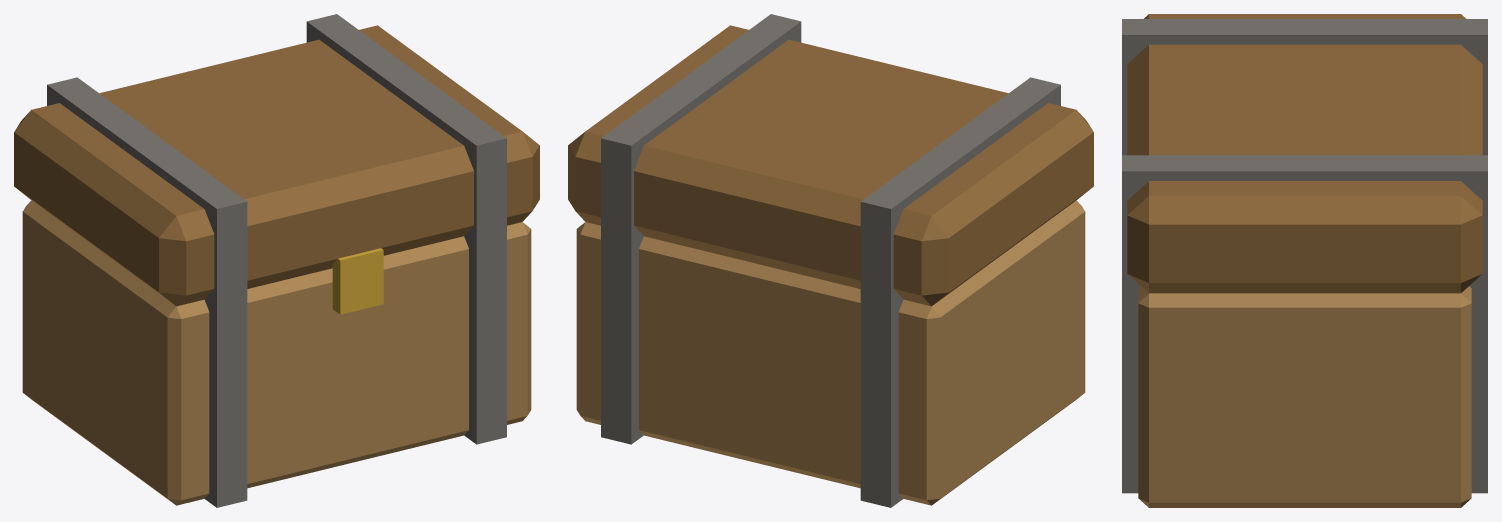
The model's file is chest.fbx.
3 views of the same model, side by side, from view 1: azimuth 30°, elevation 25°; view 2: azimuth 150°, elevation 25°; view 3: azimuth 270°, elevation 25° (orthographic). The views are drawn at different scales.
Visible parts, largest first — view 1: chest; view 2: chest; view 3: chest.
Boxes of the visible parts, box(x1,y1,x2,y2) form: chest: box(14, 14, 539, 507); chest: box(568, 14, 1093, 507); chest: box(1122, 14, 1487, 507).
Size of the model in its own units: 2.64 by 1.98 by 2.04.
